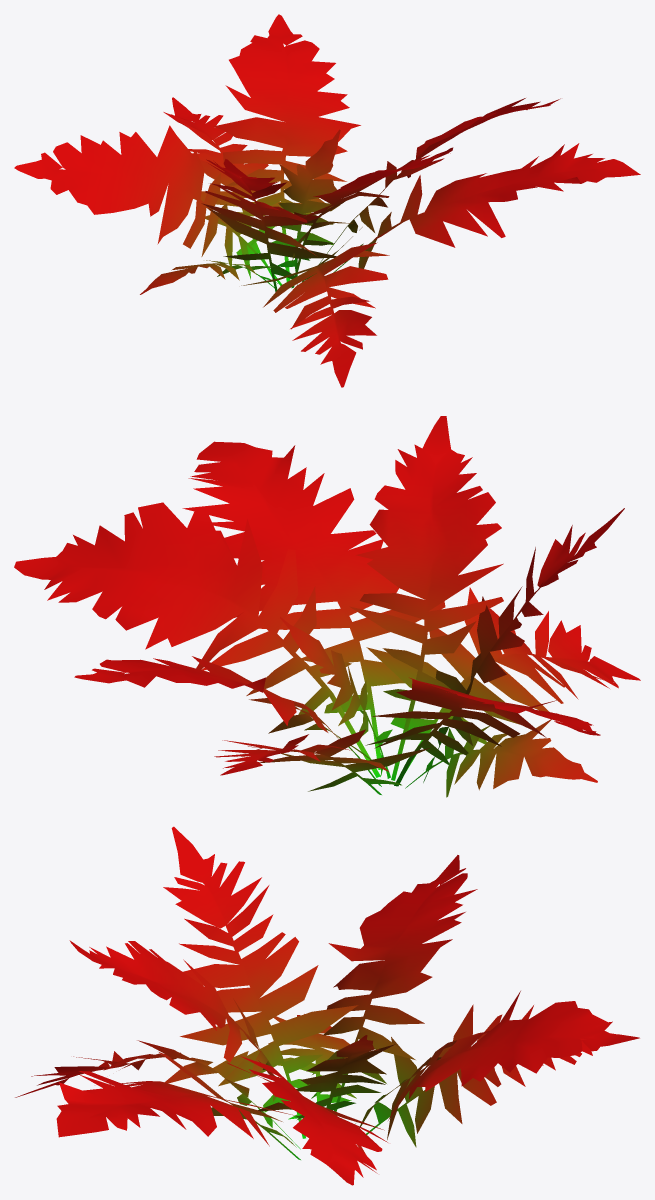
Rendered from Silvery Glade Fern_LOD2_Var9_xf5lebcqx.fbx.
3 views of the same model, one above another, from view 1: azimuth 30°, elevation 25°; view 2: azimuth 150°, elevation 25°; view 3: azimuth 270°, elevation 25° (orthographic). The views are drawn at different scales.
Parts seen in each view (by area): view 1: _9szp_Var9_LOD2; view 2: _9szp_Var9_LOD2; view 3: _9szp_Var9_LOD2.
Boxes of the visible parts, x1,y1,x2,y2 form: _9szp_Var9_LOD2: [14, 14, 640, 387]; _9szp_Var9_LOD2: [14, 416, 640, 797]; _9szp_Var9_LOD2: [15, 826, 639, 1185].
Size of the model in its own units: 69.56 by 26.68 by 60.76.
